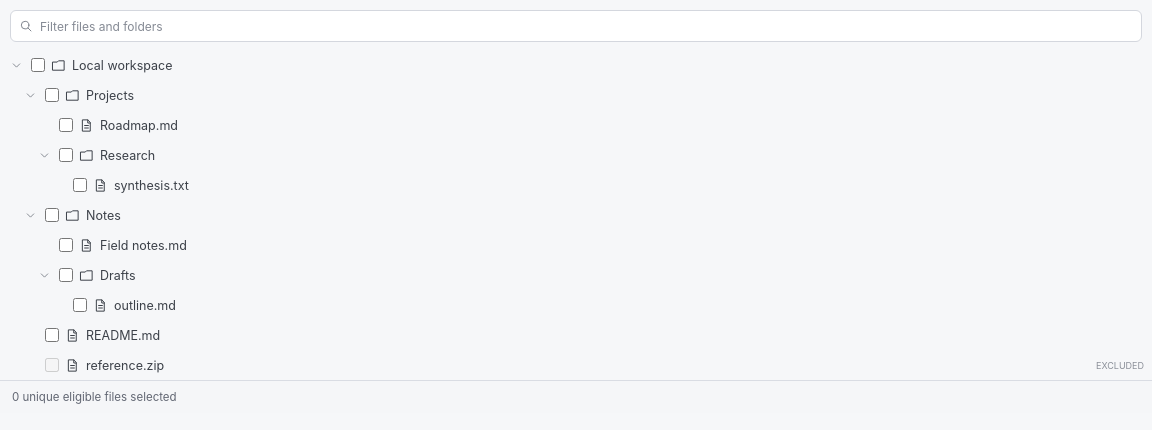
SourceTree › selects a directory, shows child deselection as indeterminate, and restores it
The image size is (1152, 430).
Step 1. Click the checkbox named "Select Projects directory" → coordinates (52, 95), box [45,88,59,102]
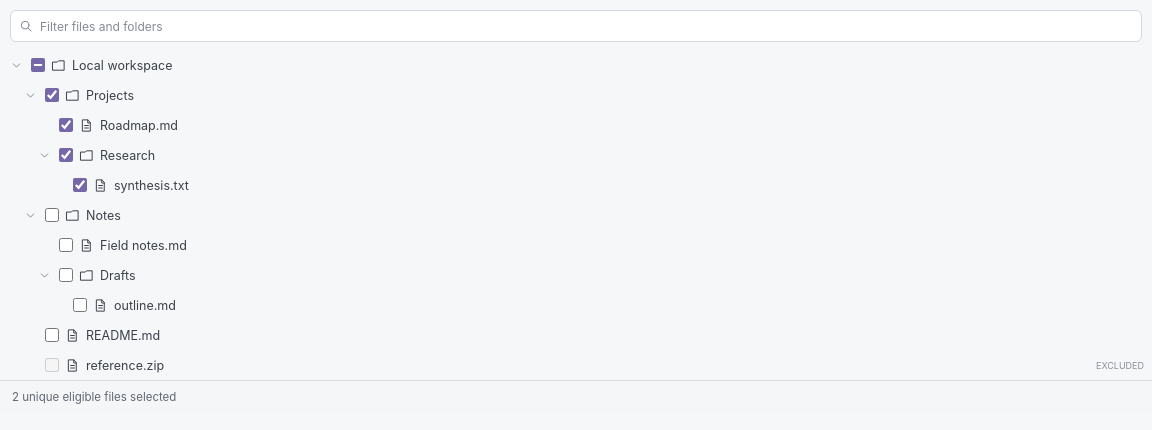
Check: the checkbox named "Select Projects directory" is checked, box [45,88,59,102]
Check: the checkbox named "Select Roadmap.md file" is checked
Step 2. Click the checkbox named "Select Roadmap.md file" → coordinates (66, 125), box [59,118,73,132]
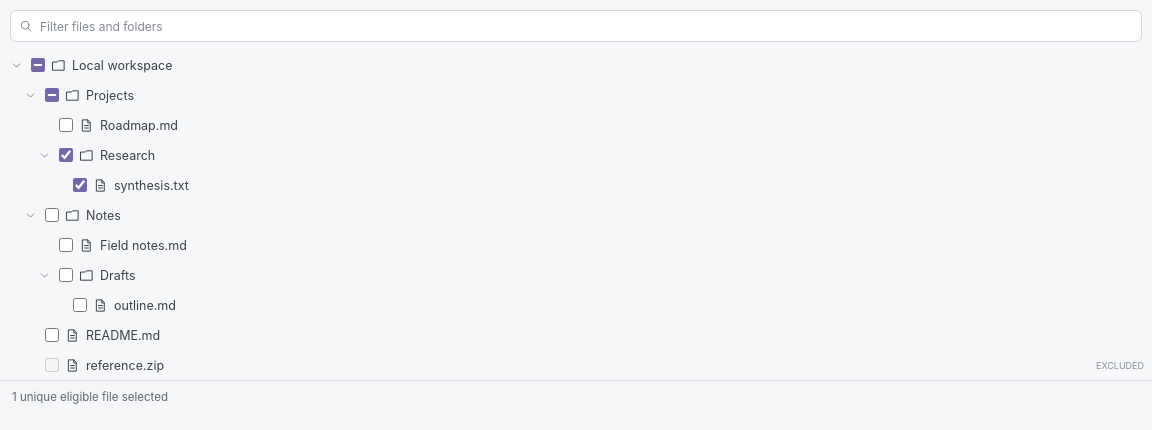
Check: the text "1 unique eligible file selected" is shown, box [0,380,1151,413]
Step 3. Click the checkbox named "Select Roadmap.md file" → coordinates (66, 125), box [59,118,73,132]
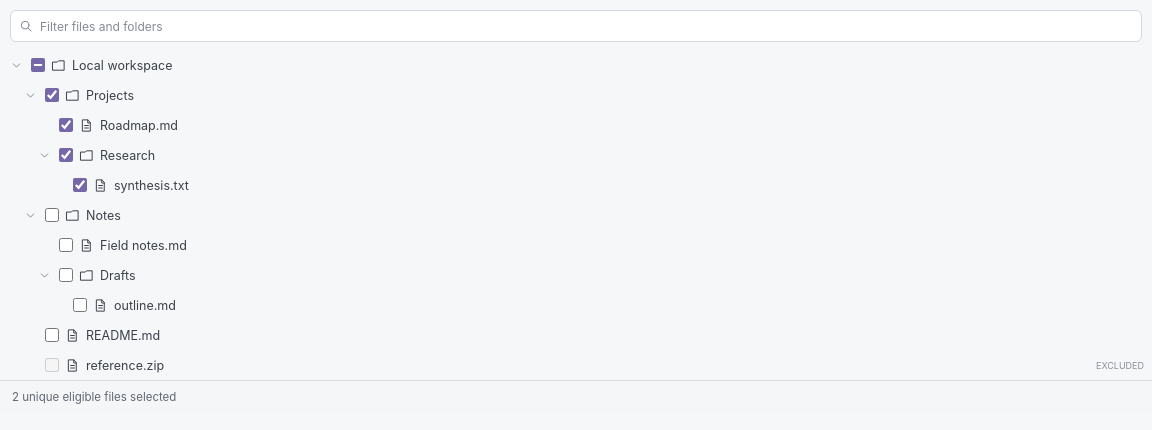
Check: the checkbox named "Select Projects directory" is checked, box [45,88,59,102]
Check: the text "2 unique eligible files selected" is shown, box [0,380,1151,413]
